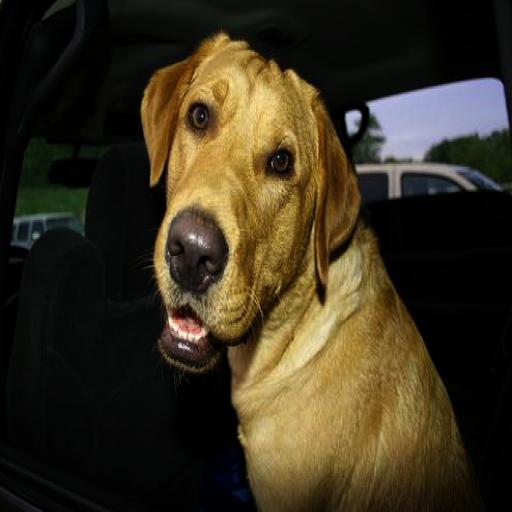dog_face: (132, 29, 346, 369)
